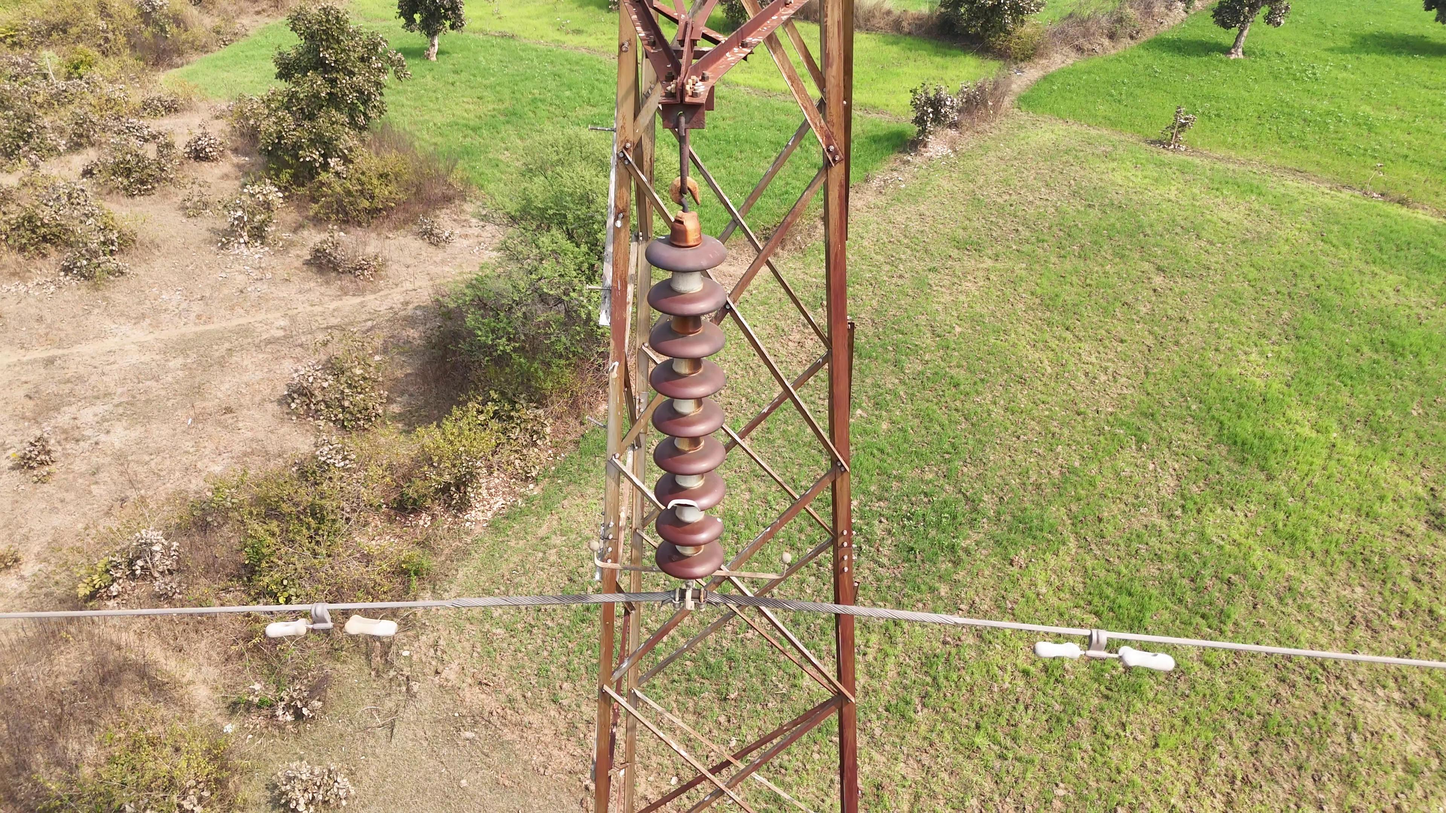broken_insulator: (654, 475, 731, 517)
